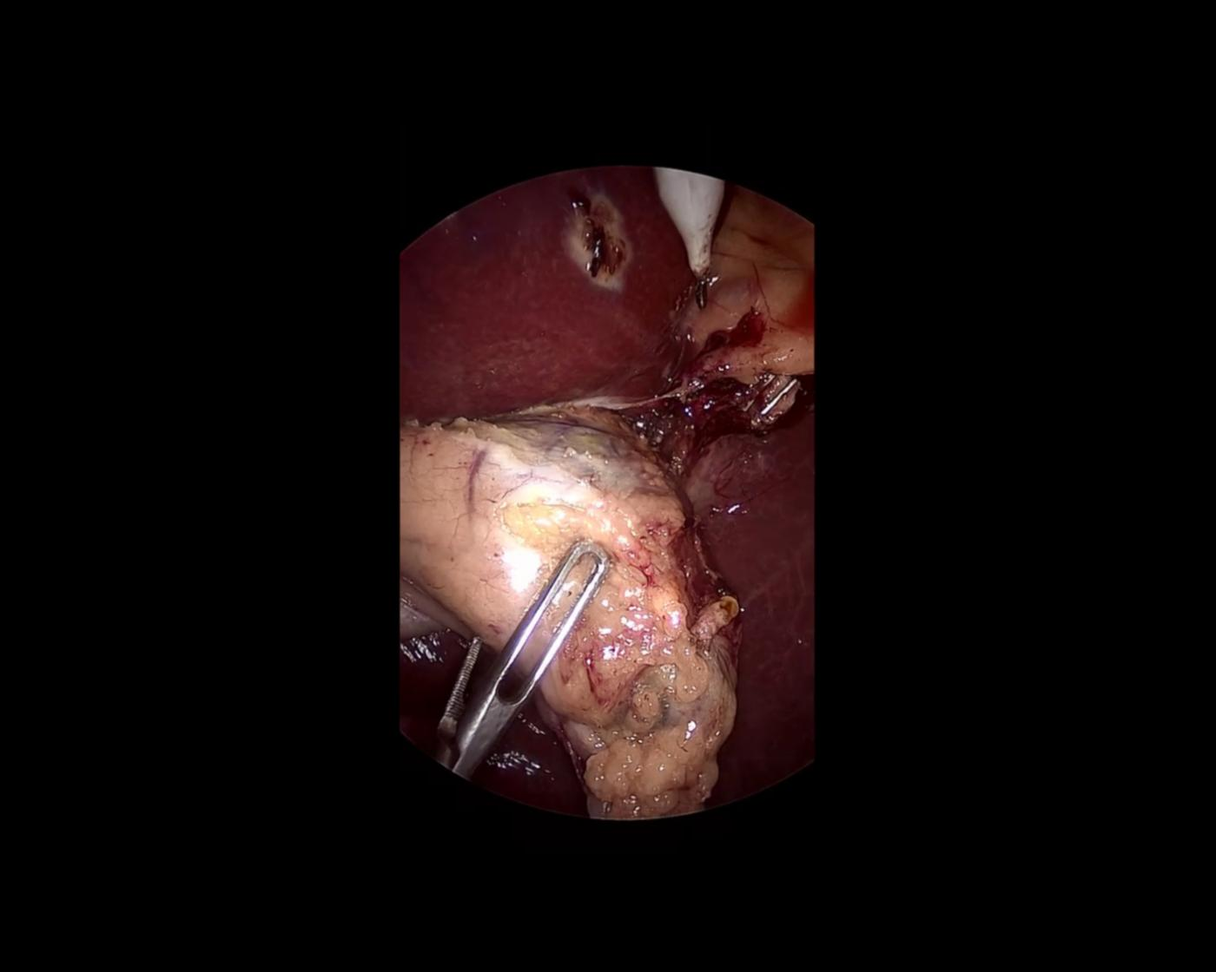Cautery: (642, 167, 725, 308)
Forceps: (405, 513, 617, 780)
Gallbladder: (399, 407, 741, 818)
Liver: (372, 154, 710, 428), (359, 608, 622, 856), (687, 410, 816, 808)
